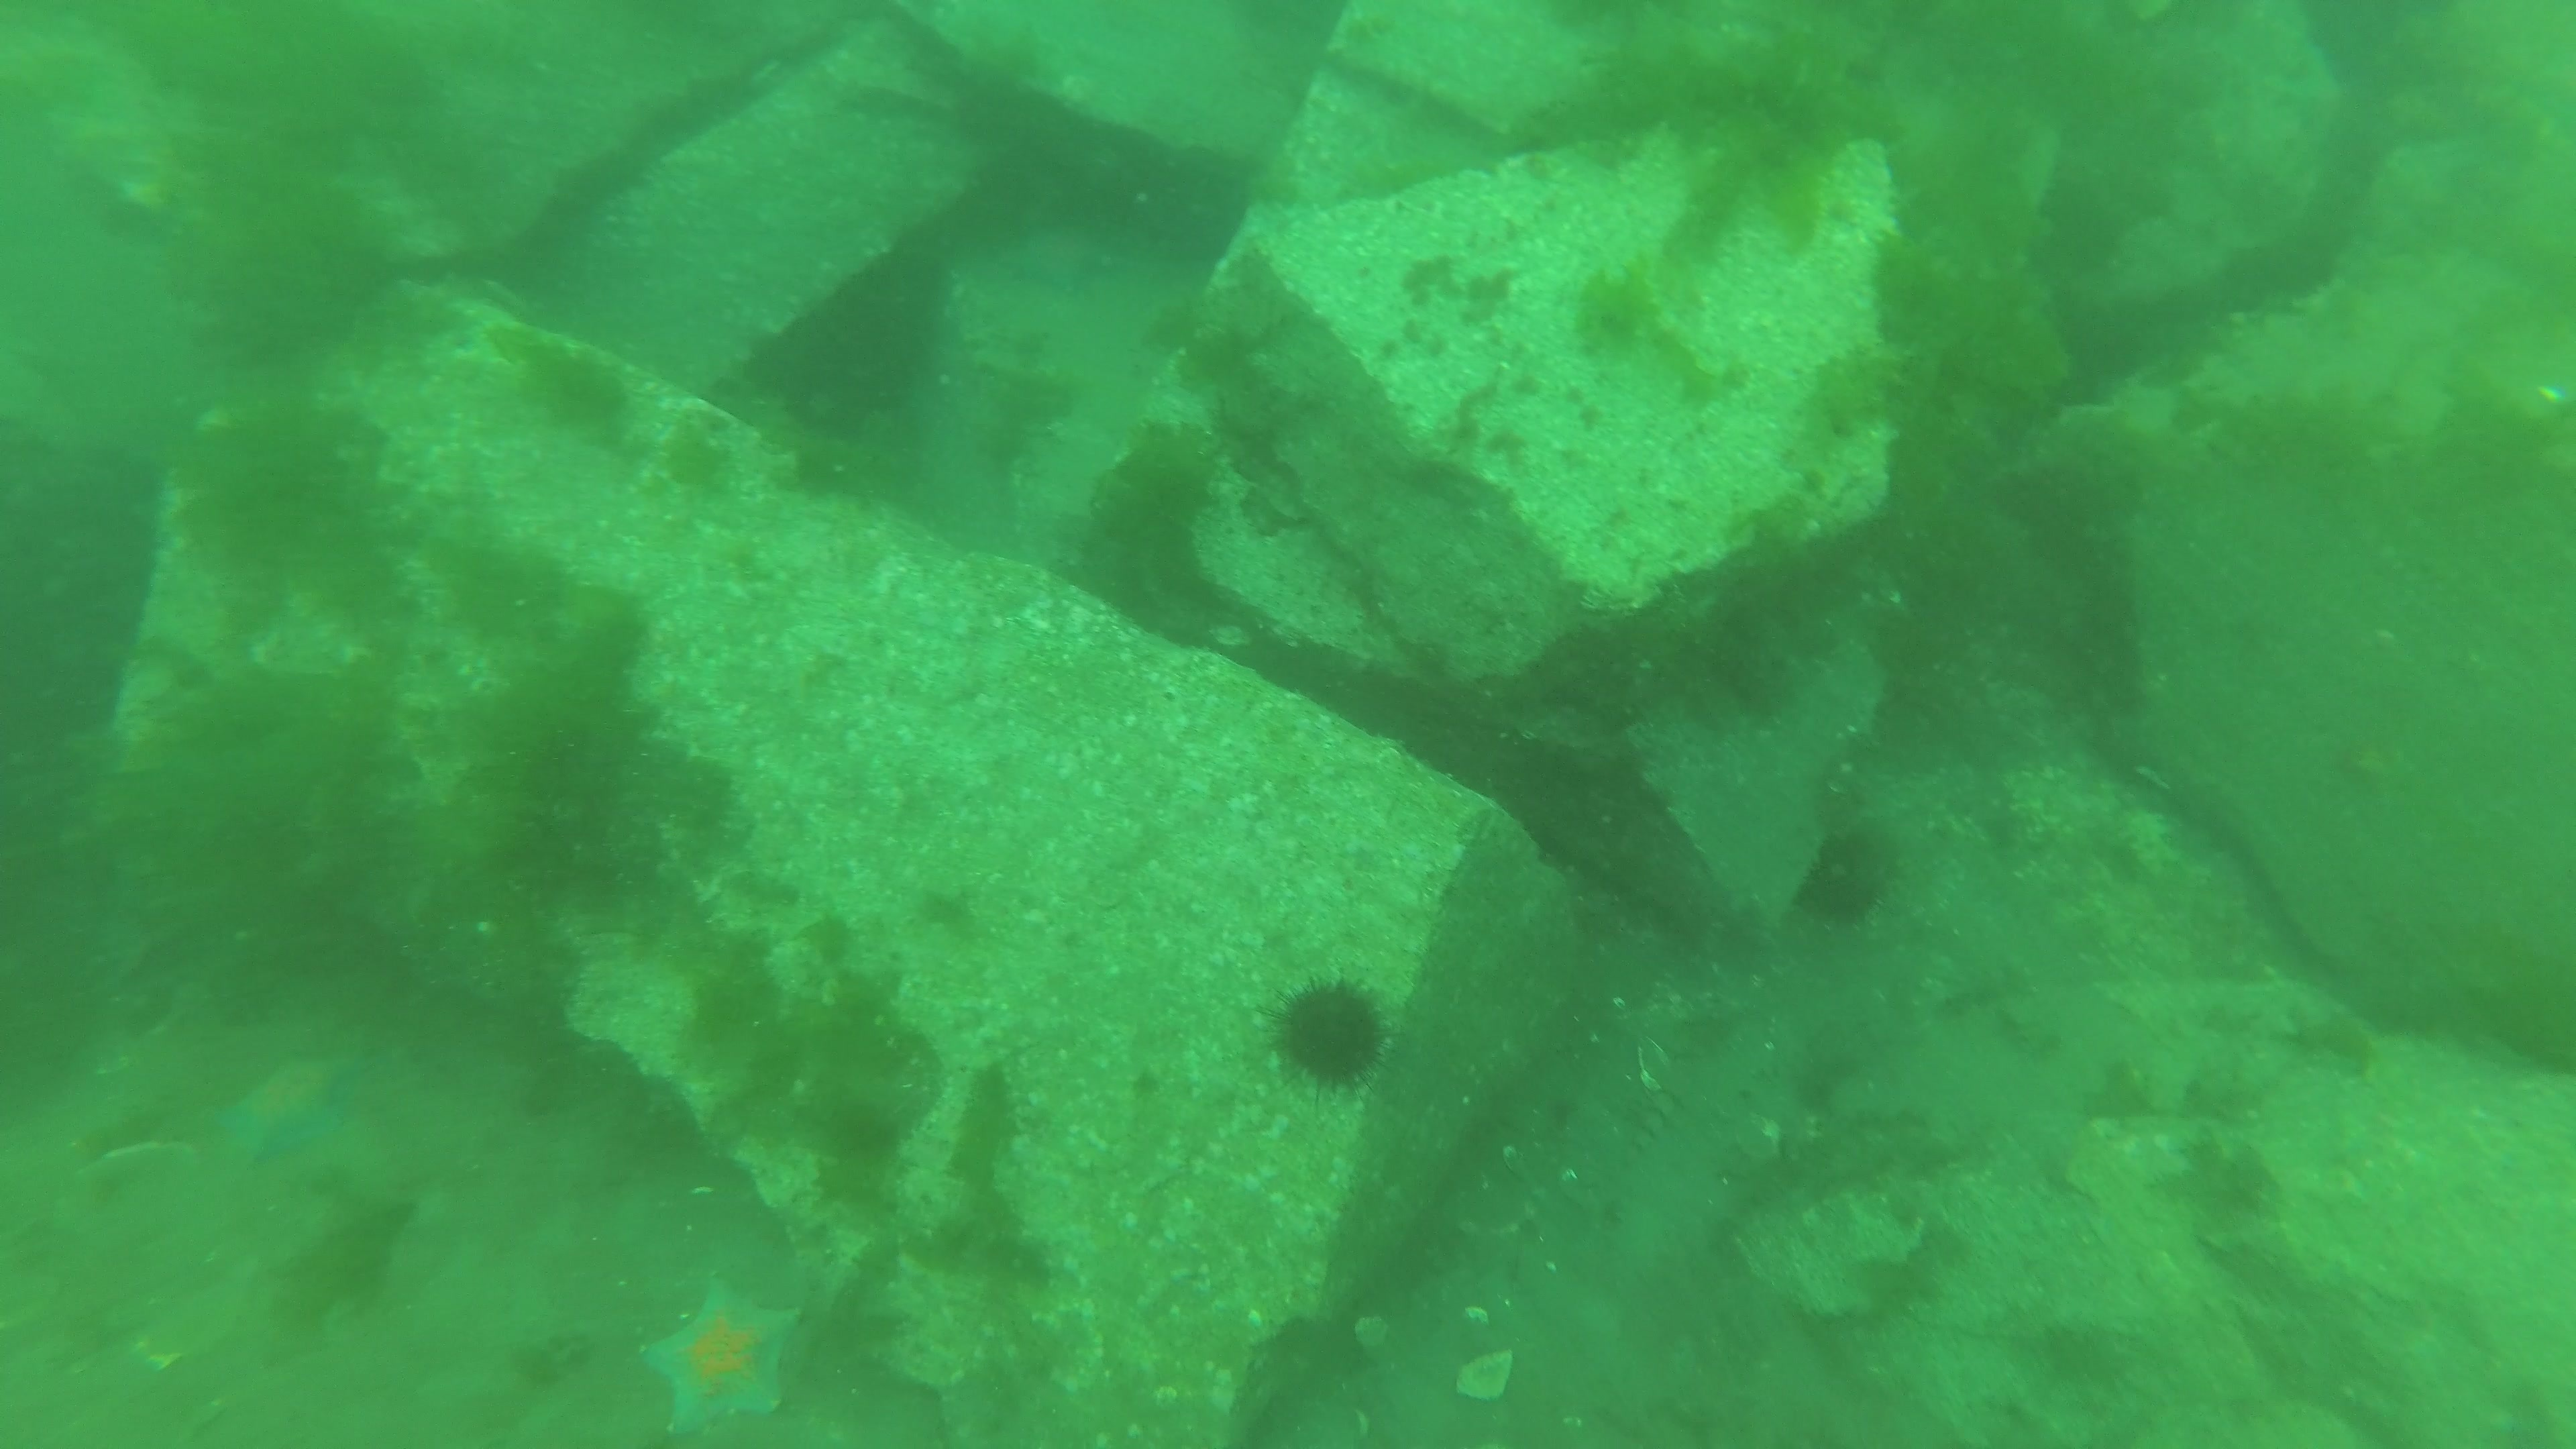echinus: (1260, 975, 1392, 1102), (1794, 824, 1891, 927)
starfish: (633, 1274, 803, 1438), (221, 1056, 361, 1169), (996, 225, 1129, 303)
